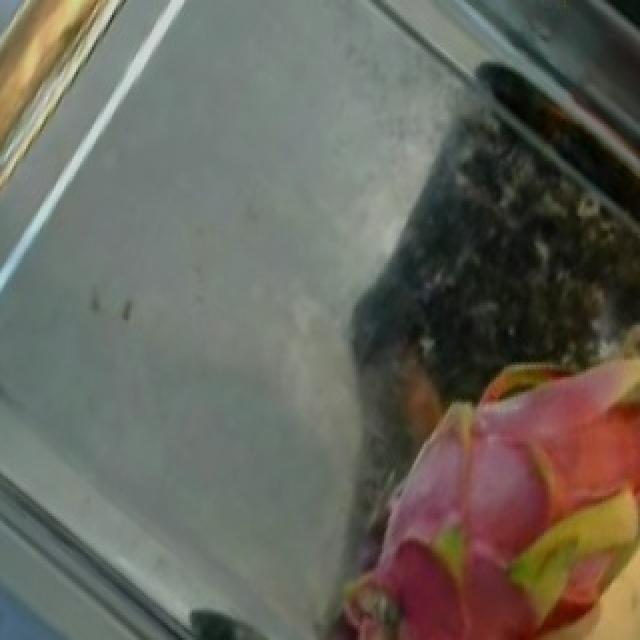fruit: (260, 248, 638, 640)
